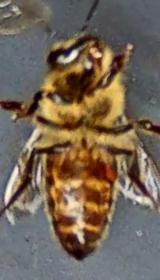varroa_mite: (98, 153, 120, 184)
